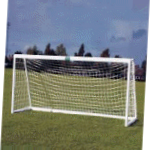goals: (11, 53, 138, 126)
